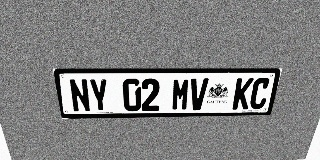0: (122, 78, 141, 111)
2: (141, 78, 160, 111)
C: (248, 78, 271, 109)
K: (232, 78, 254, 110)
M: (171, 78, 191, 111)
N: (68, 79, 91, 112)
V: (189, 78, 209, 110)
Y: (88, 79, 110, 112)
